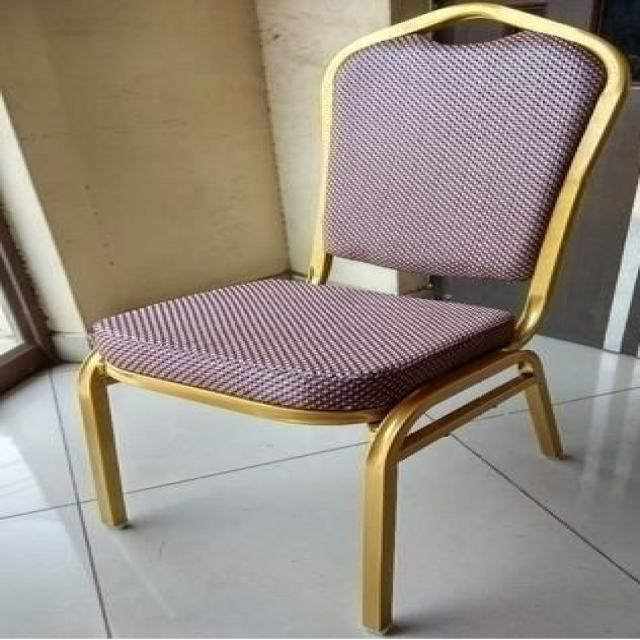Chair: (77, 2, 624, 635)
